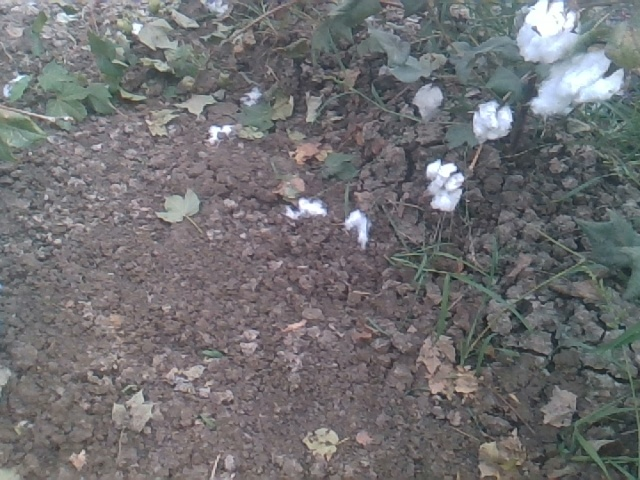cotton: (532, 52, 626, 118), (515, 1, 582, 62), (425, 159, 465, 214), (472, 101, 515, 145), (412, 82, 444, 123)
